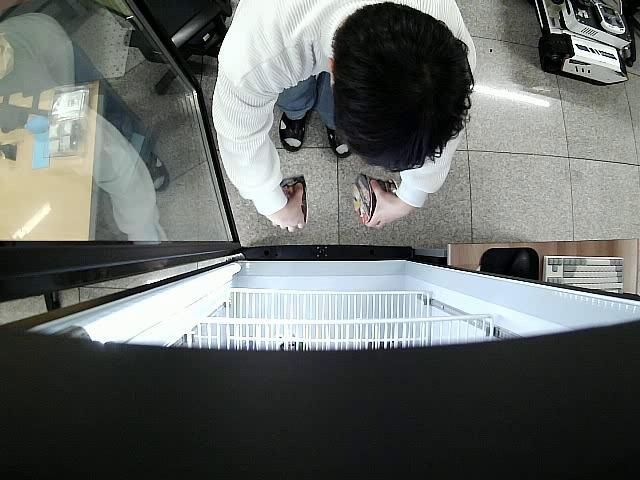07_buldak_L: (352, 173, 394, 228), (281, 174, 306, 225)
